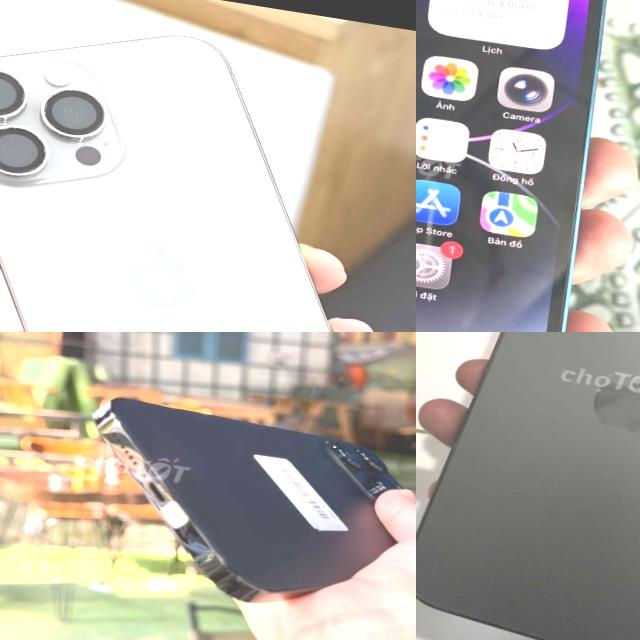gen_12_13: (416, 0, 640, 332), (416, 332, 640, 640)
gen_14: (64, 380, 416, 640)
gen_16: (0, 36, 331, 332)
